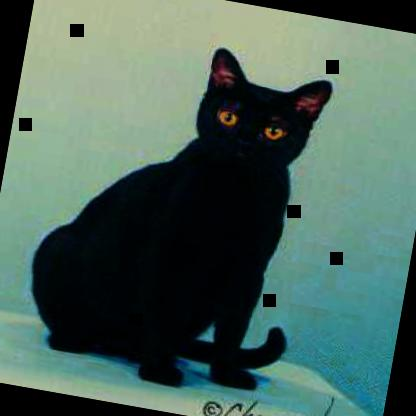cat: (14, 20, 336, 406)
